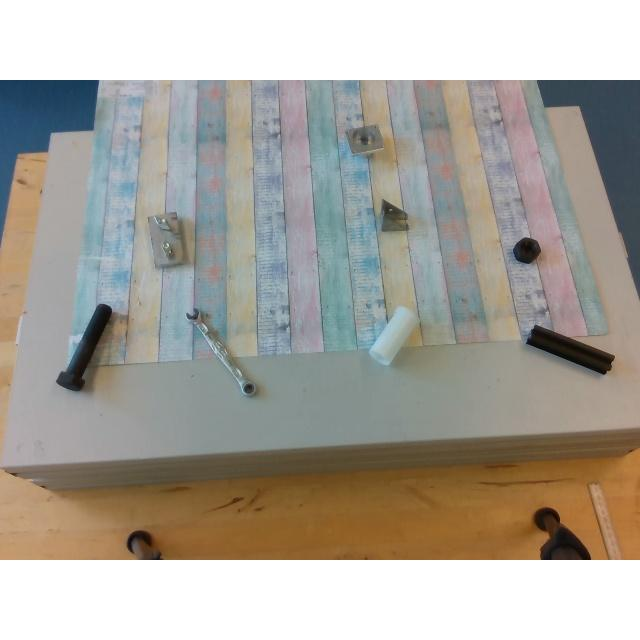F20_20_B: (526, 325, 614, 373)
M20: (512, 236, 540, 264)
M20_100: (56, 303, 112, 389)
Spacer: (368, 308, 417, 364)
Wrench: (184, 308, 256, 394)
